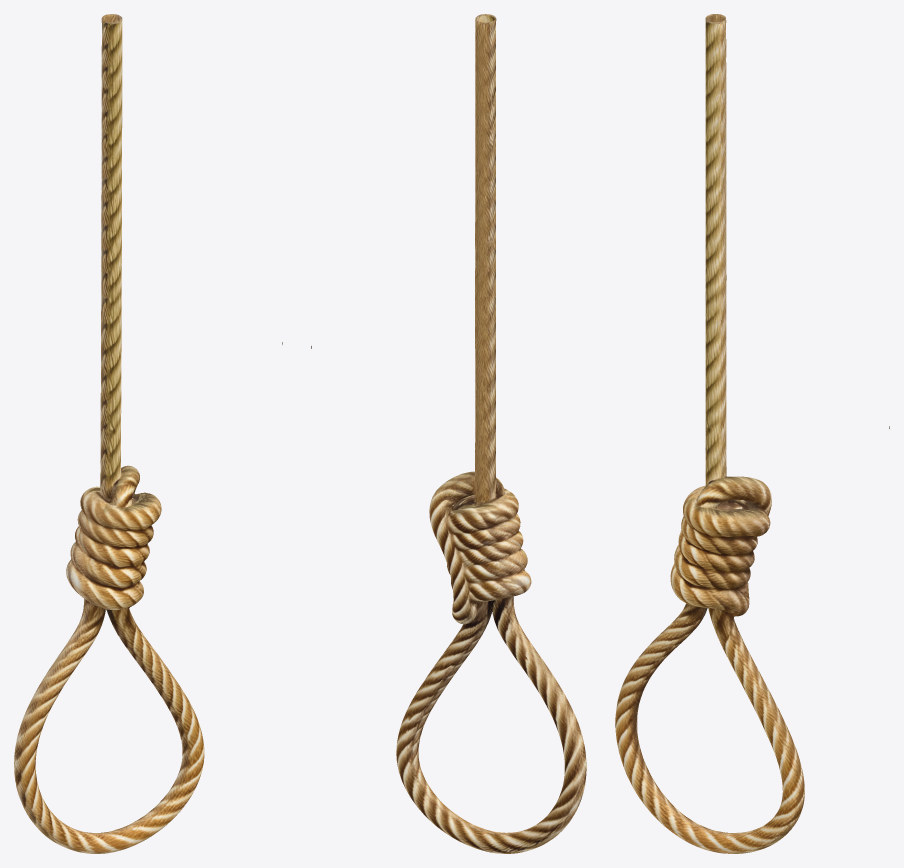
Rendered from SET5.glb.
3 views of the same model, side by side, from view 1: azimuth 30°, elevation 25°; view 2: azimuth 150°, elevation 25°; view 3: azimuth 330°, elevation 25° (orthographic).
Size of the model in its own units: 0.6456 by 1.9 by 0.1867.
1 material, 1 textured.
